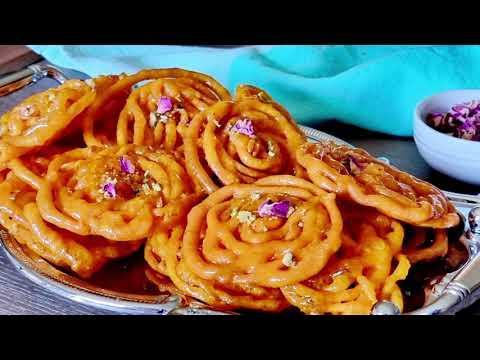jalebi: (3, 70, 450, 313)
